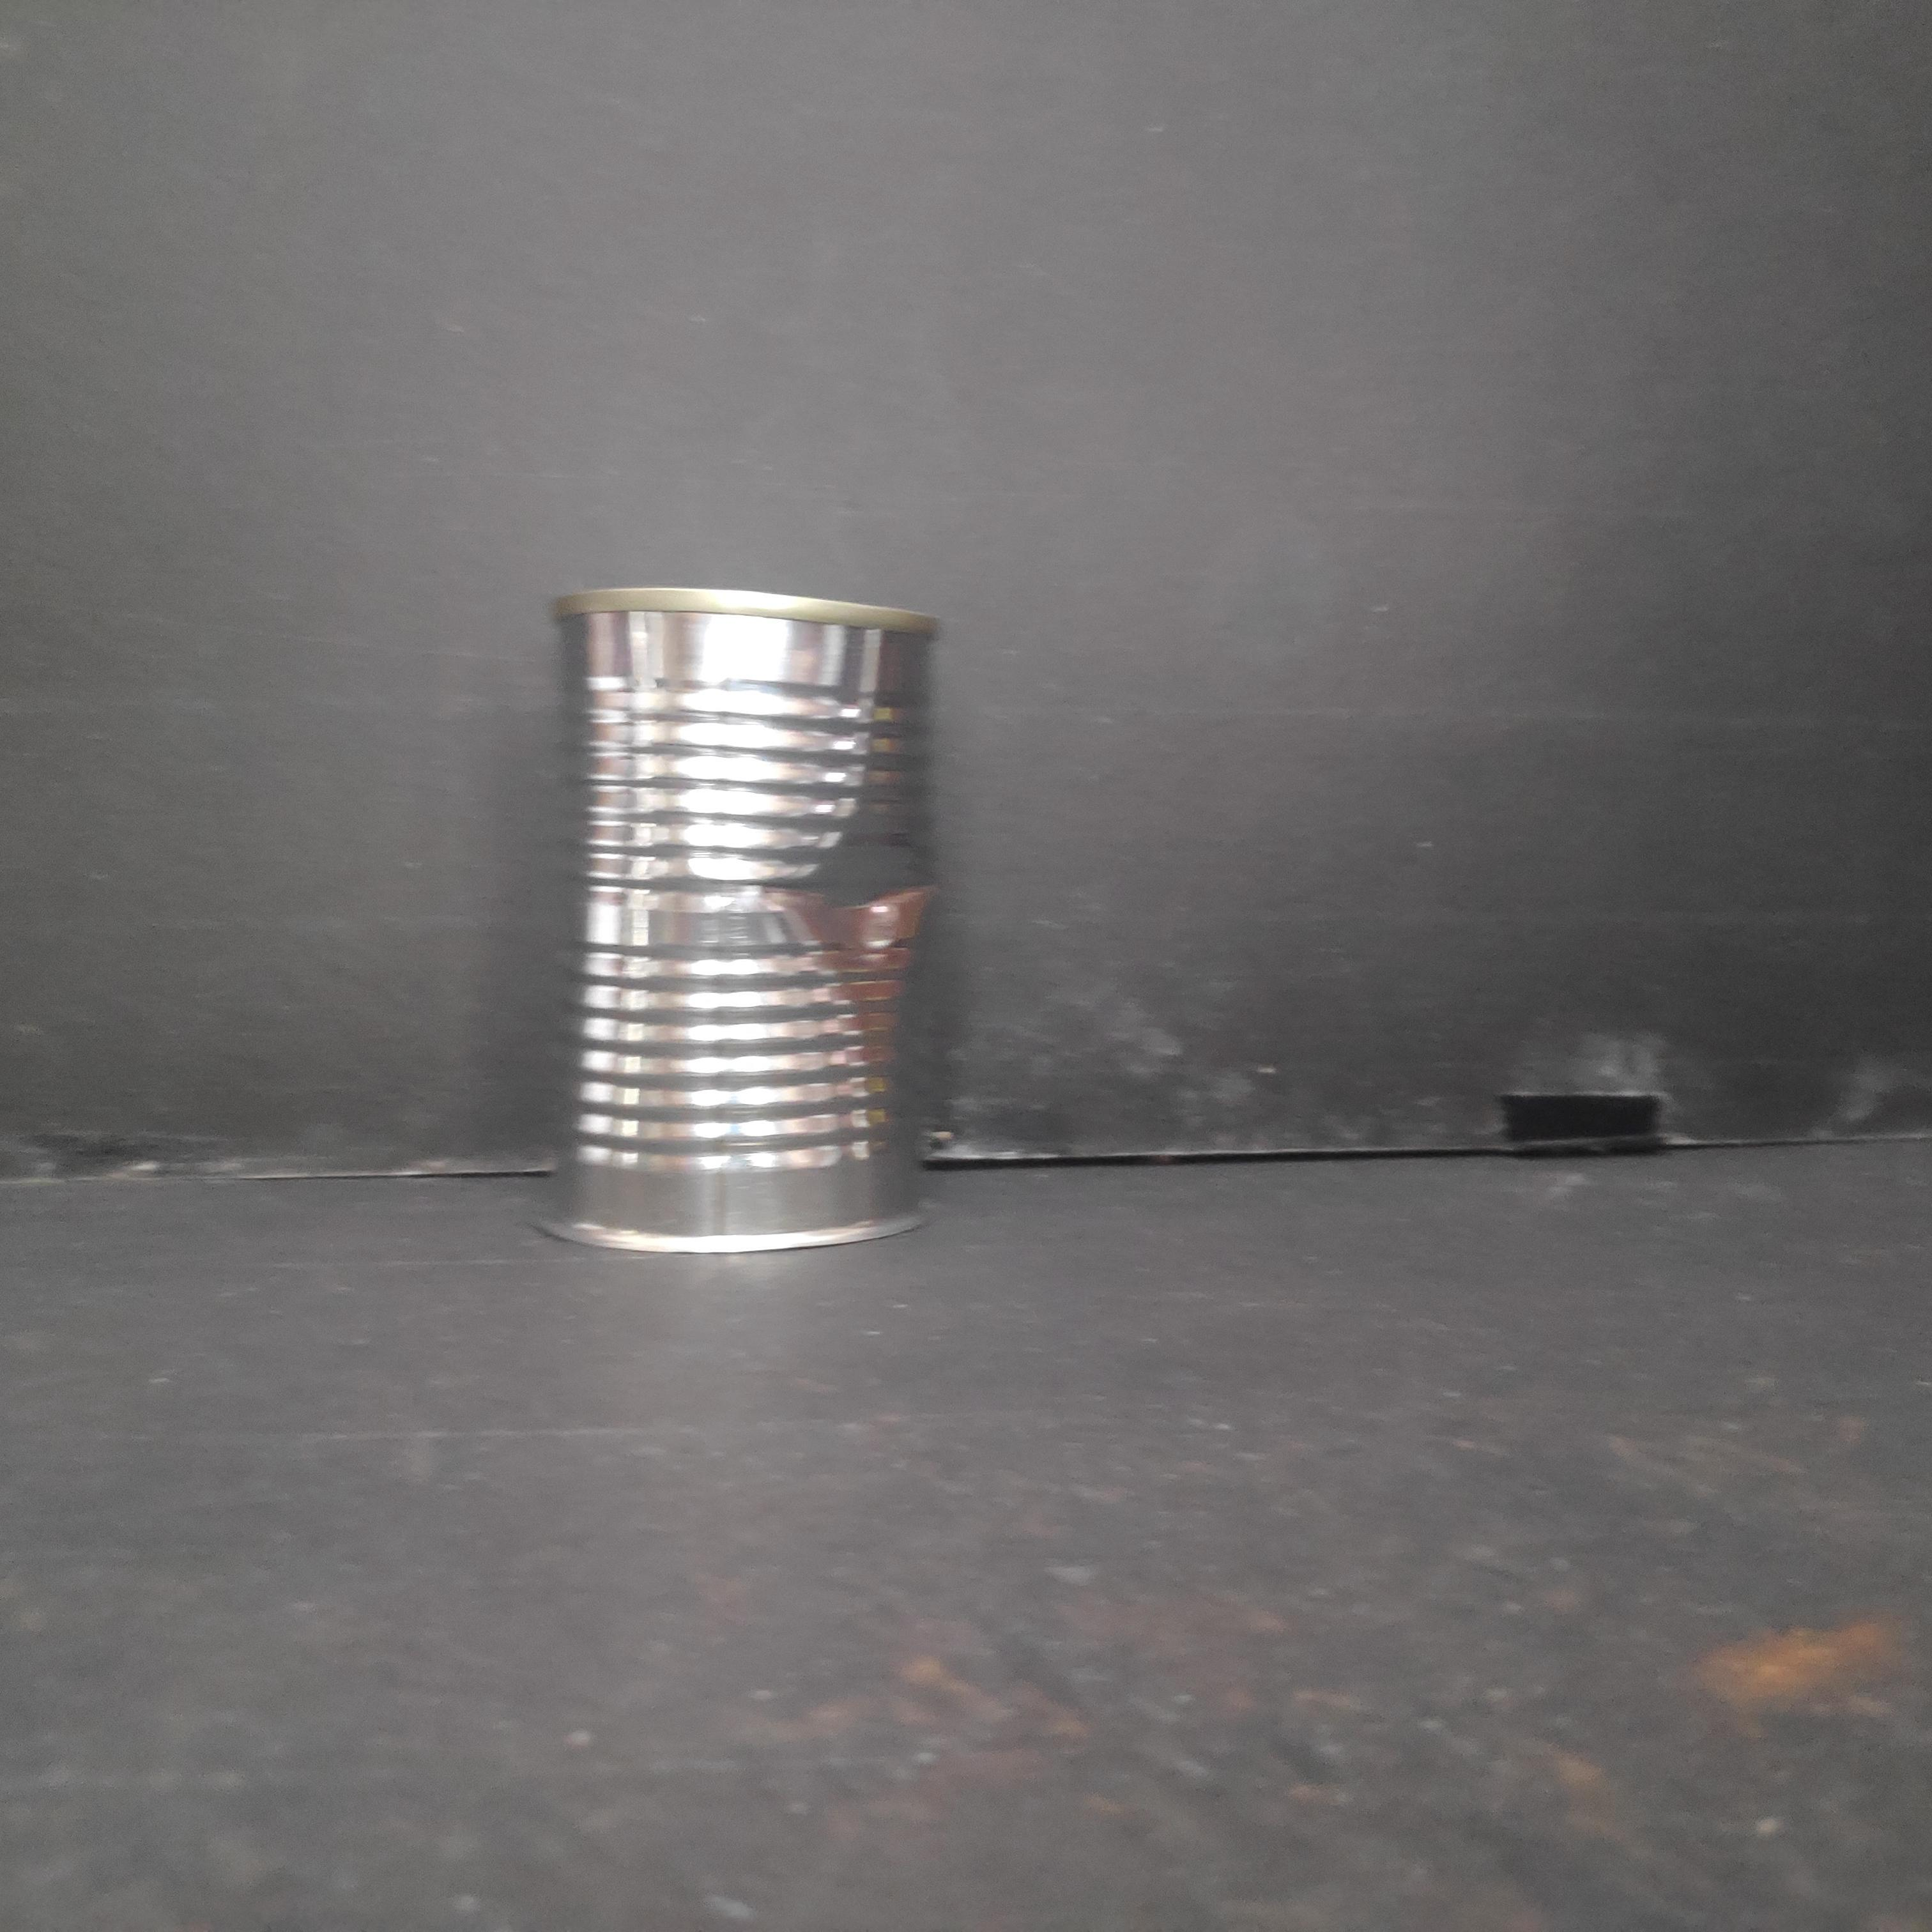Minor Defect: (538, 573, 941, 1269)
